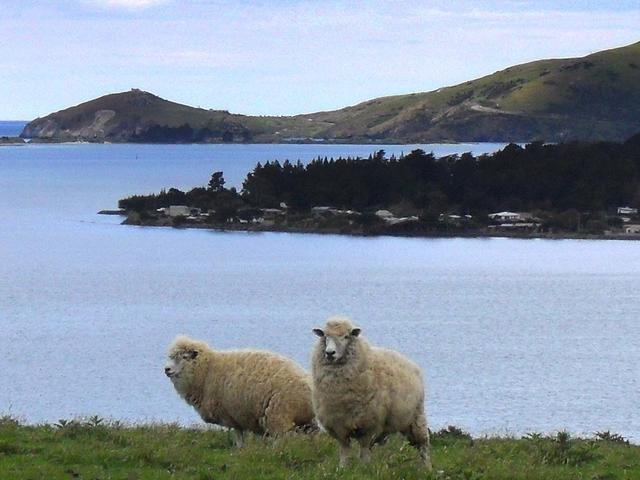sheep: (289, 299, 461, 462), (136, 316, 320, 445)
